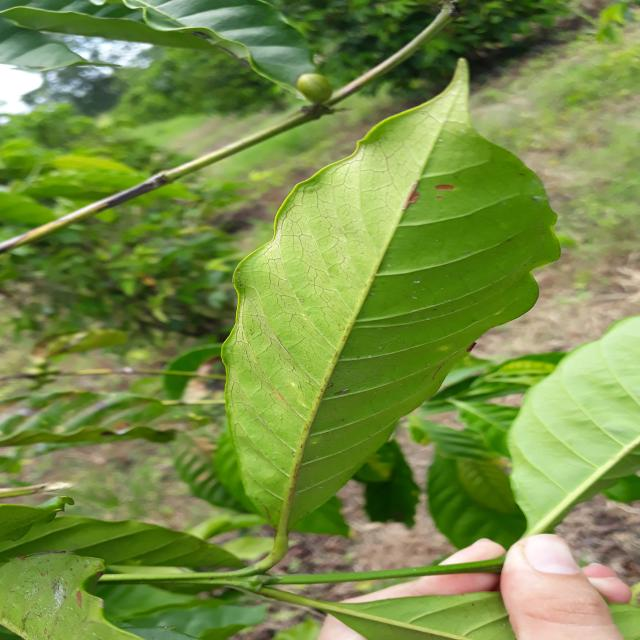Enfermedad-Roya: (214, 60, 563, 552)
